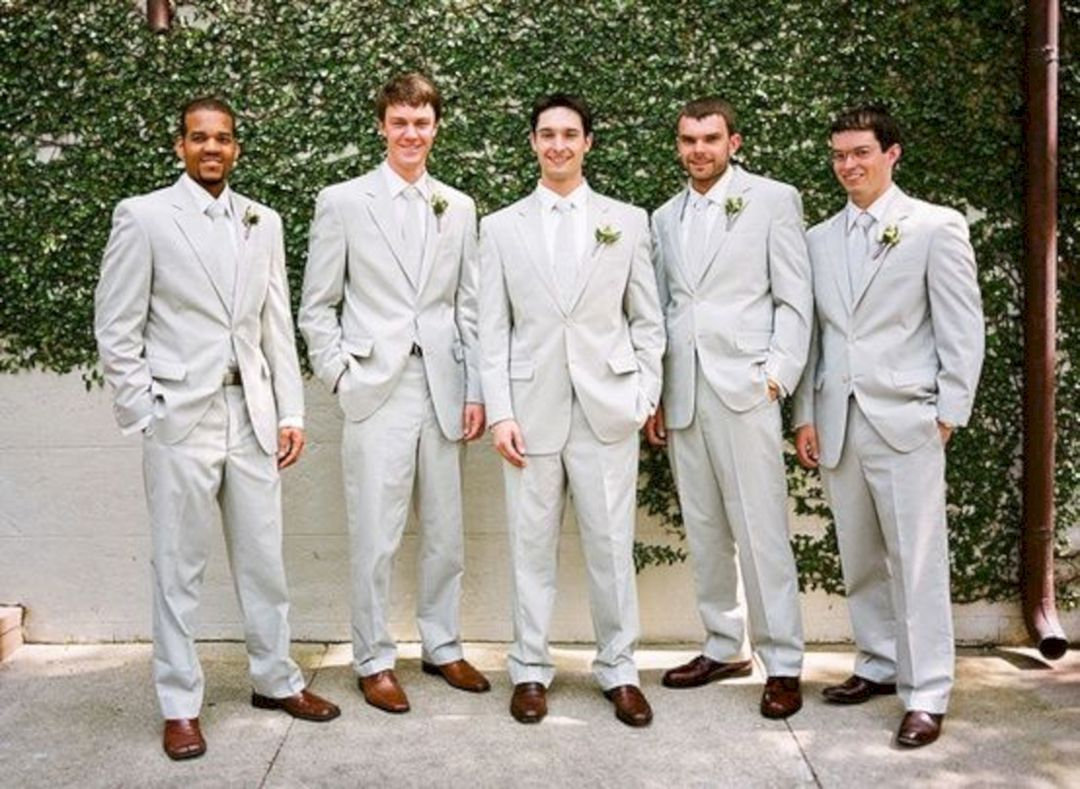Person: (94, 97, 302, 759), (480, 93, 667, 728), (299, 71, 483, 714), (811, 106, 983, 748), (661, 99, 811, 718)
